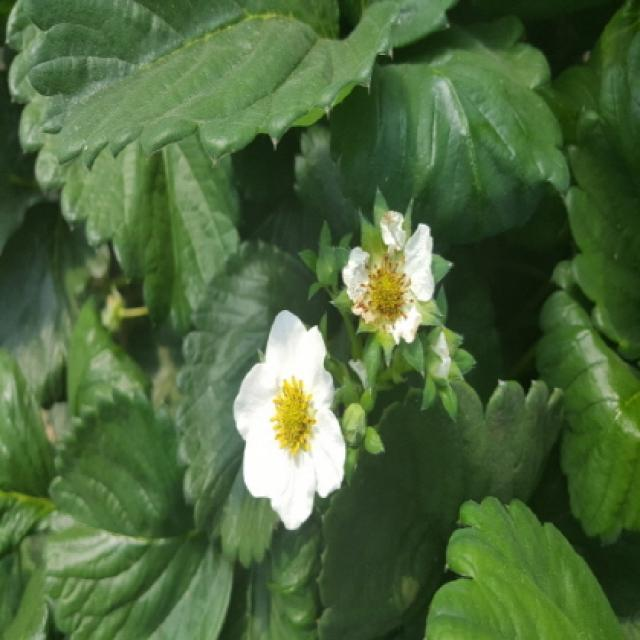Blossom Blight: (350, 252, 419, 332)
